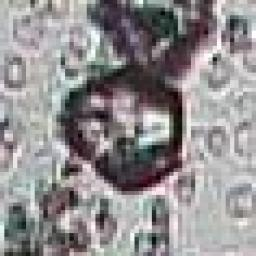crystals: (64, 60, 186, 194)
